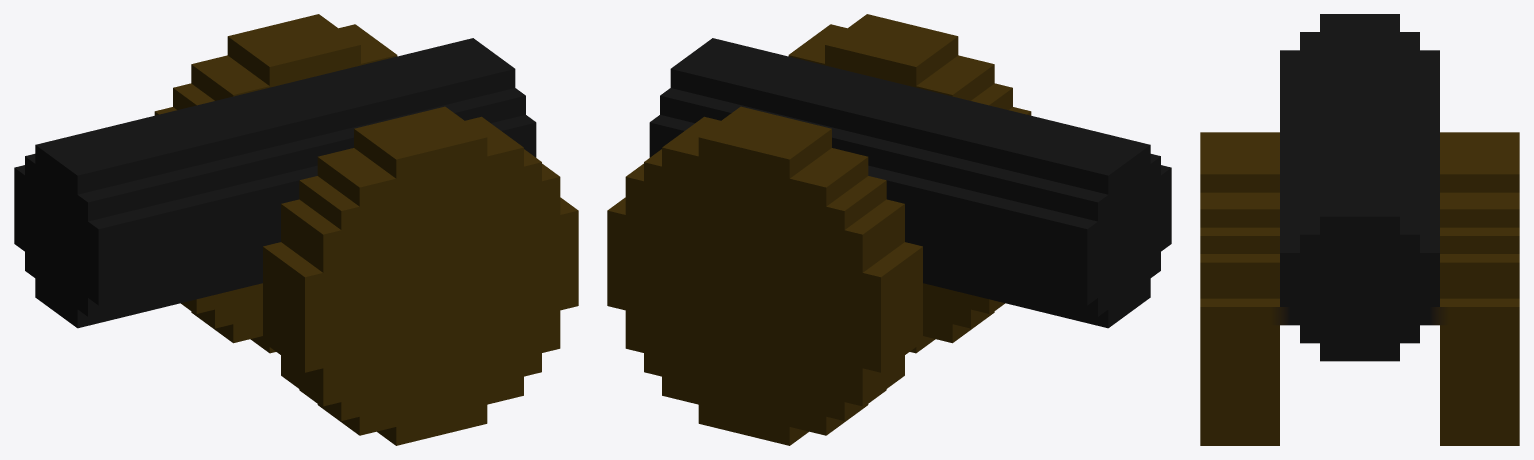
Rendered from Cannon.fbx.
The picture shows the model from 3 angles, left to right: view 1: azimuth 30°, elevation 25°; view 2: azimuth 150°, elevation 25°; view 3: azimuth 270°, elevation 25°; orthographic projection. The views are drawn at different scales.
Visible parts, largest first — view 1: Compound; view 2: Compound; view 3: Compound.
Boxes of the visible parts, x1,y1,x2,y2 form: Compound: [14, 14, 578, 445]; Compound: [607, 14, 1171, 445]; Compound: [1200, 14, 1519, 445].
Size of the model in its own units: 24 by 15 by 16.
